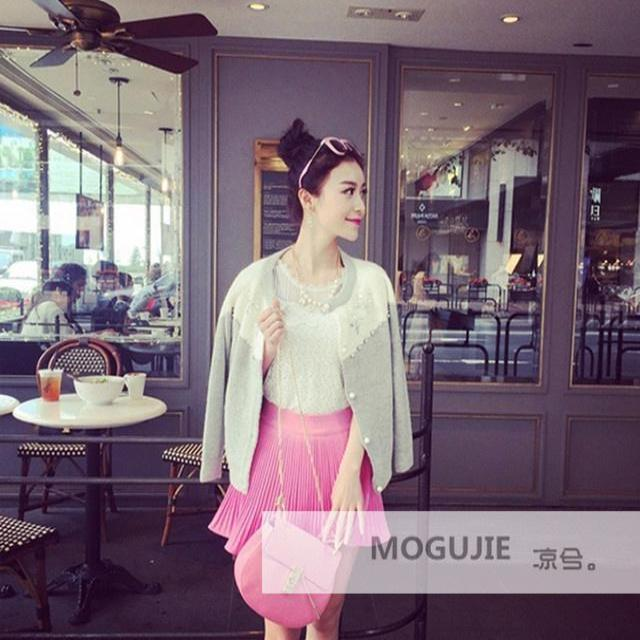long sleeve outwear: (199, 252, 281, 494)
skirt: (208, 399, 392, 562)
